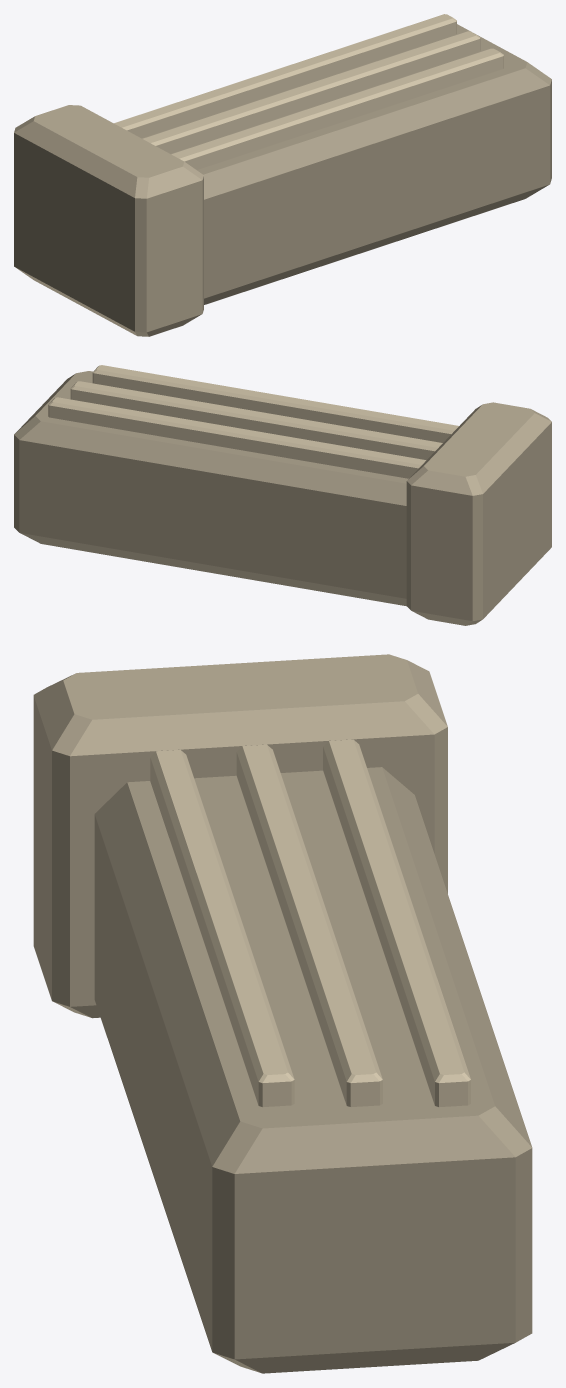
File: Rubble_Fallen_Shaft.fbx
The picture shows the model from 3 angles, top to bottom: view 1: azimuth 30°, elevation 25°; view 2: azimuth 150°, elevation 25°; view 3: azimuth 270°, elevation 25°; orthographic projection. The views are drawn at different scales.
Visible parts, largest first — view 1: Rubble_Fallen_Shaft; view 2: Rubble_Fallen_Shaft; view 3: Rubble_Fallen_Shaft.
Boxes of the visible parts, x1,y1,x2,y2 form: Rubble_Fallen_Shaft: (14,14,551,336); Rubble_Fallen_Shaft: (14,365,551,625); Rubble_Fallen_Shaft: (33,654,532,1373).
Bounding box in the file's own units: 1.81 × 0.56 × 0.8487.
